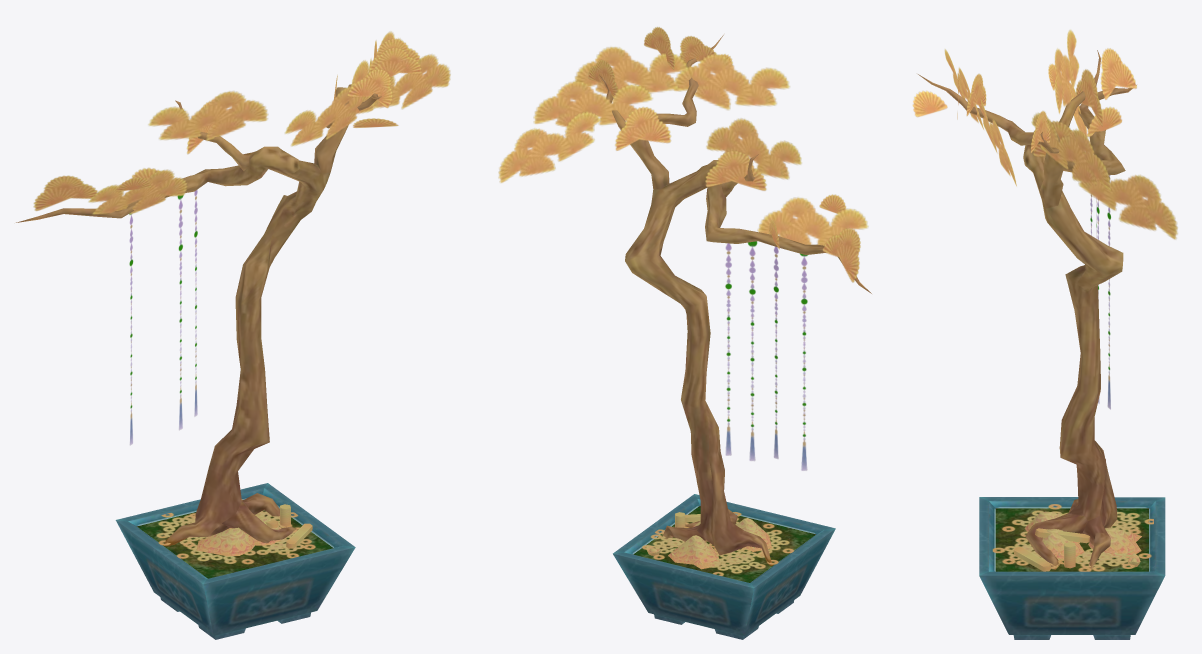
File: furniture-19593.glb
3 views of the same model, side by side, from view 1: azimuth 30°, elevation 25°; view 2: azimuth 150°, elevation 25°; view 3: azimuth 270°, elevation 25° (orthographic). The views are drawn at different scales.
Bounding box in the file's own units: 2.37 × 3.33 × 1.42.
1 material, 1 textured.
